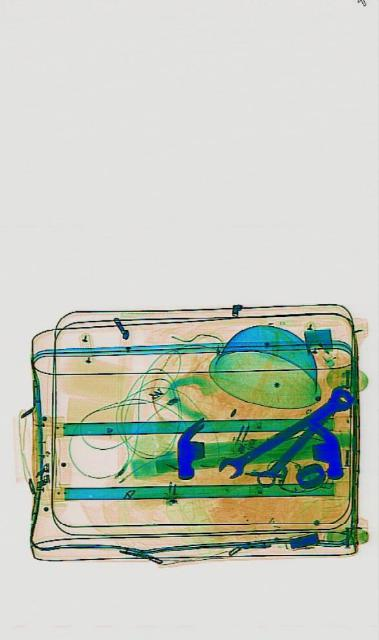Wrench: (215, 376, 354, 486), (254, 376, 354, 492)
